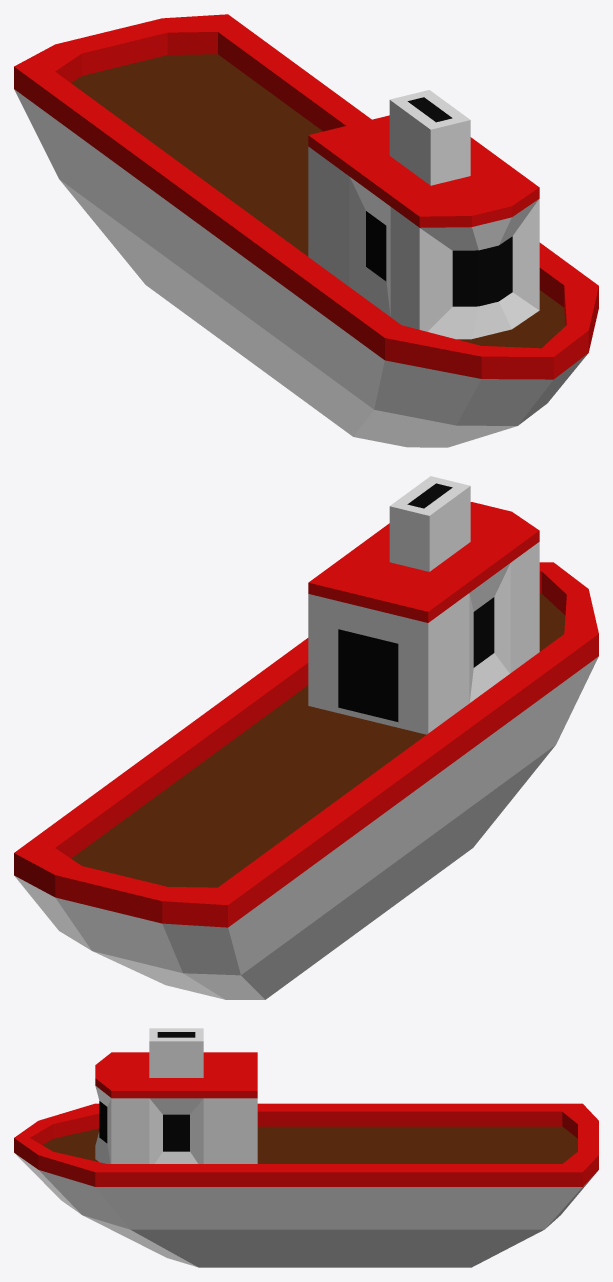
Rendered from boat.glb.
3 renders of one model, top to bottom at view 1: azimuth 30°, elevation 25°; view 2: azimuth 150°, elevation 25°; view 3: azimuth 270°, elevation 25°, orthographic. The views are drawn at different scales.
Parts seen in each view (by area): view 1: Cube, Cube.001; view 2: Cube, Cube.001; view 3: Cube, Cube.001.
Part boxes in pixels (x1,y1,x2,y2): Cube: (14,14,598,447); Cube.001: (308,90,539,339); Cube: (14,562,598,999); Cube.001: (308,476,539,734); Cube: (14,1103,598,1267); Cube.001: (95,1028,257,1163).
Size of the model in its own units: 10.2 by 14.79 by 36.72.
